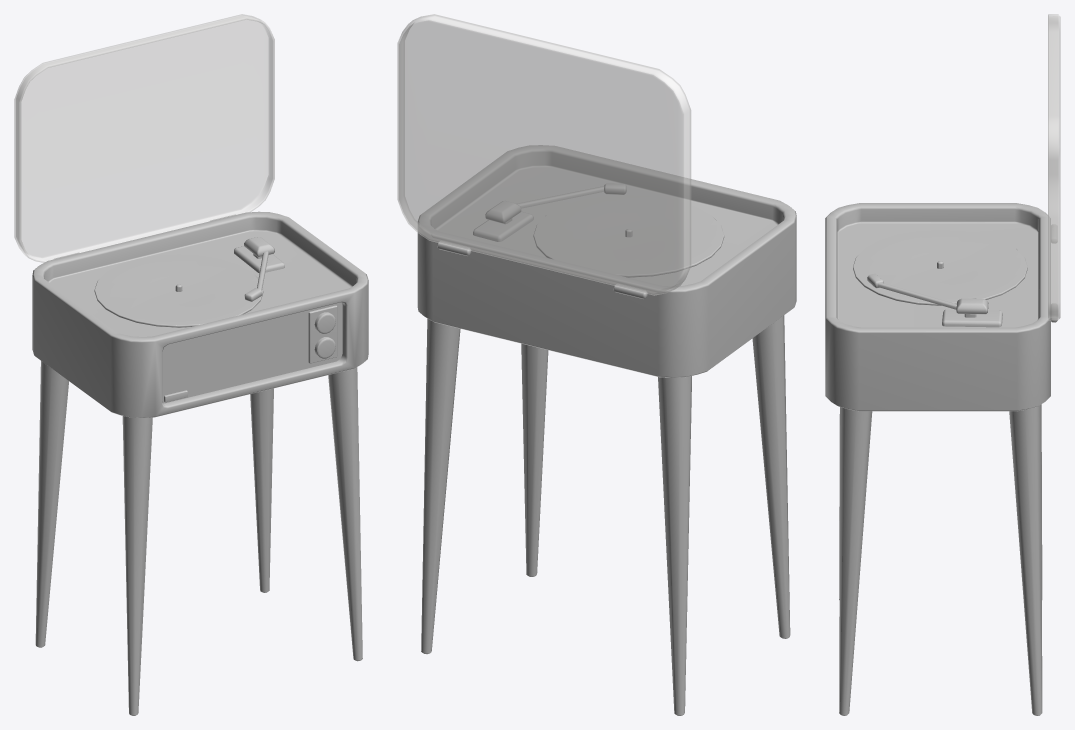
Rendered from Vinyl_Player_2.fbx.
3 views of the same model, side by side, from view 1: azimuth 30°, elevation 25°; view 2: azimuth 150°, elevation 25°; view 3: azimuth 270°, elevation 25° (orthographic). The views are drawn at different scales.
Parts seen in each view (by area): view 1: Vinyl_Player_2; view 2: Vinyl_Player_2; view 3: Vinyl_Player_2.
Boxes of the visible parts, <box> form: Vinyl_Player_2: <box>14,14,368,715</box>; Vinyl_Player_2: <box>397,14,796,715</box>; Vinyl_Player_2: <box>825,14,1060,715</box>.
Size of the model in its own units: 56.81 by 121 by 43.7.
